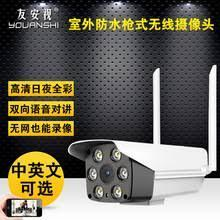tutu: (58, 126, 220, 219)
